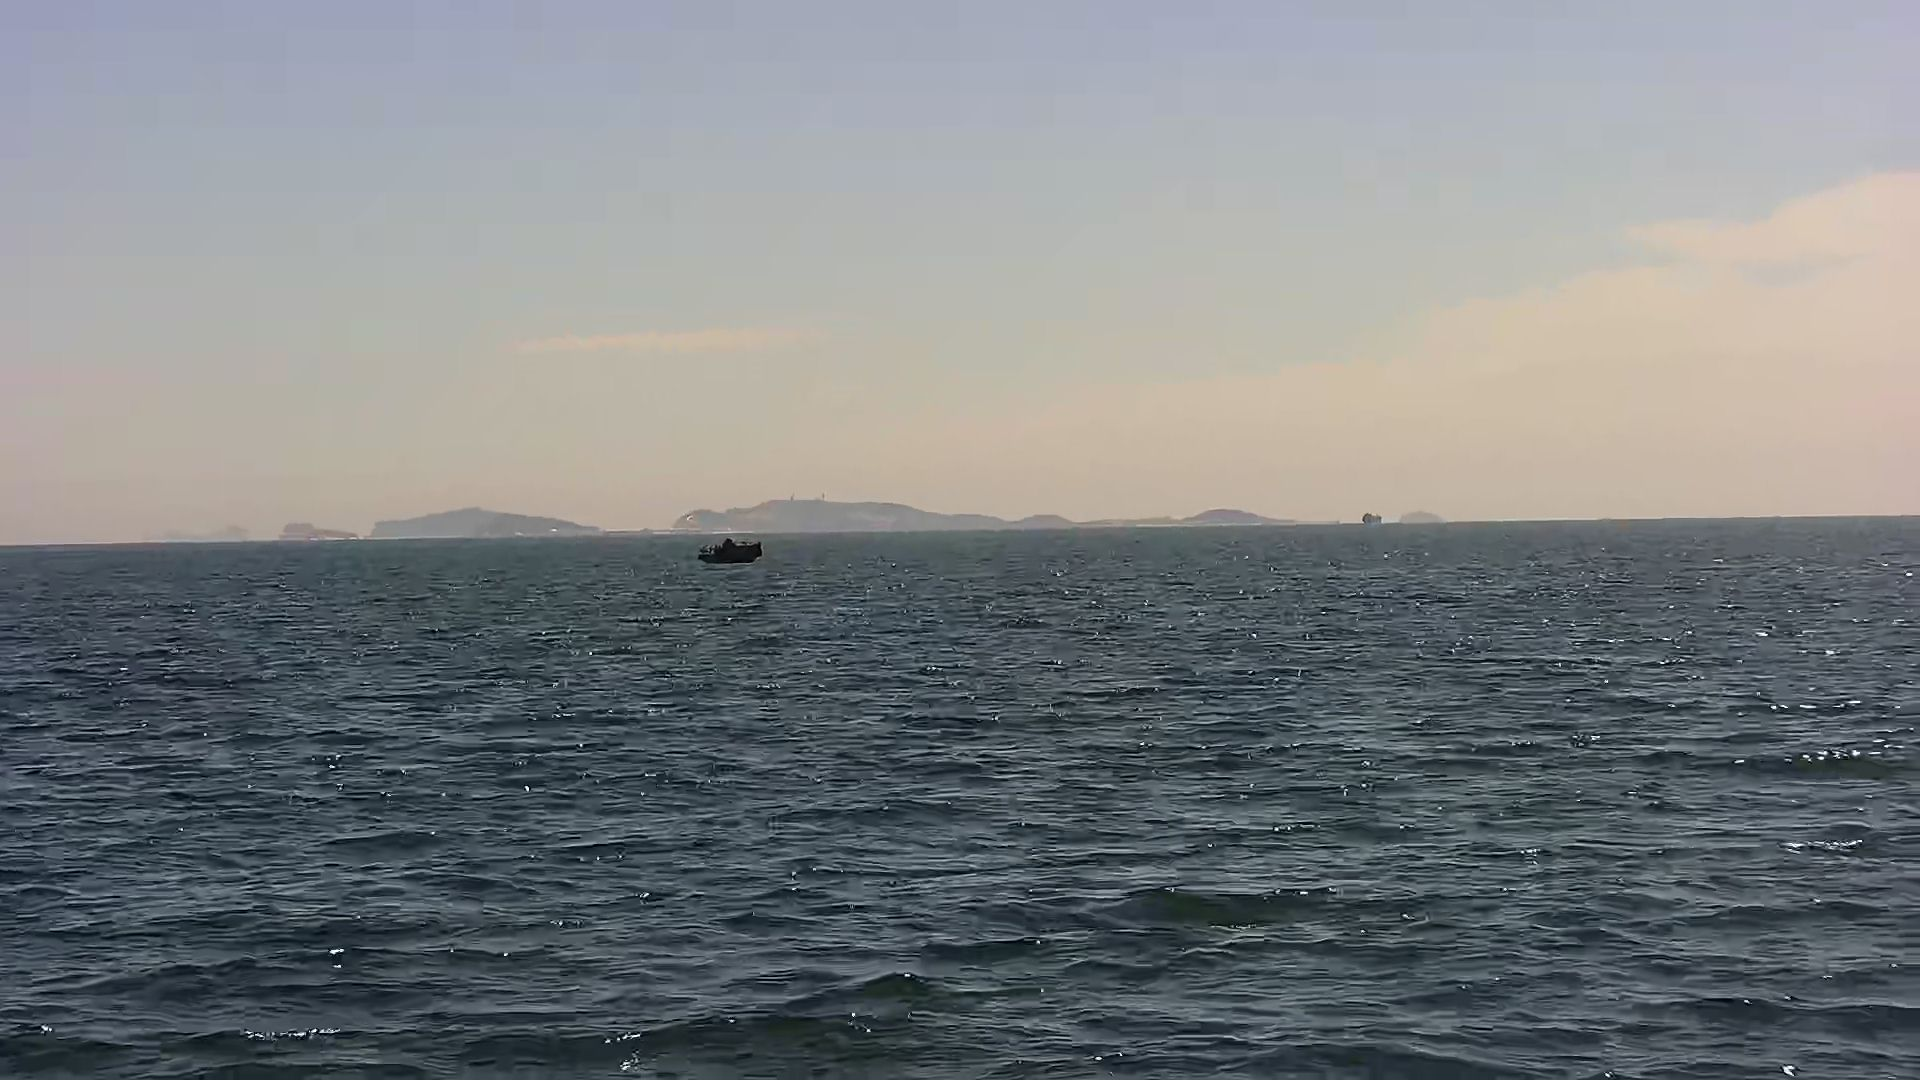boat: (703, 541, 769, 567)
rock: (669, 497, 1338, 526), (371, 502, 644, 537), (277, 516, 371, 543), (1393, 502, 1448, 527)
